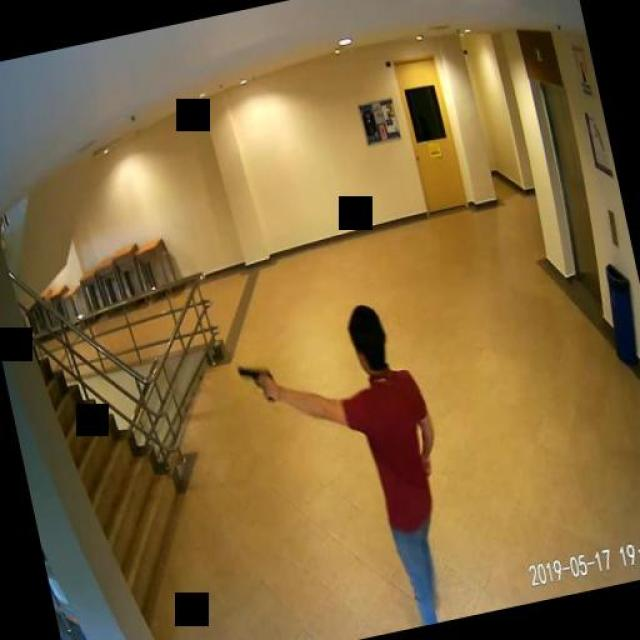gun: (234, 360, 276, 405)
